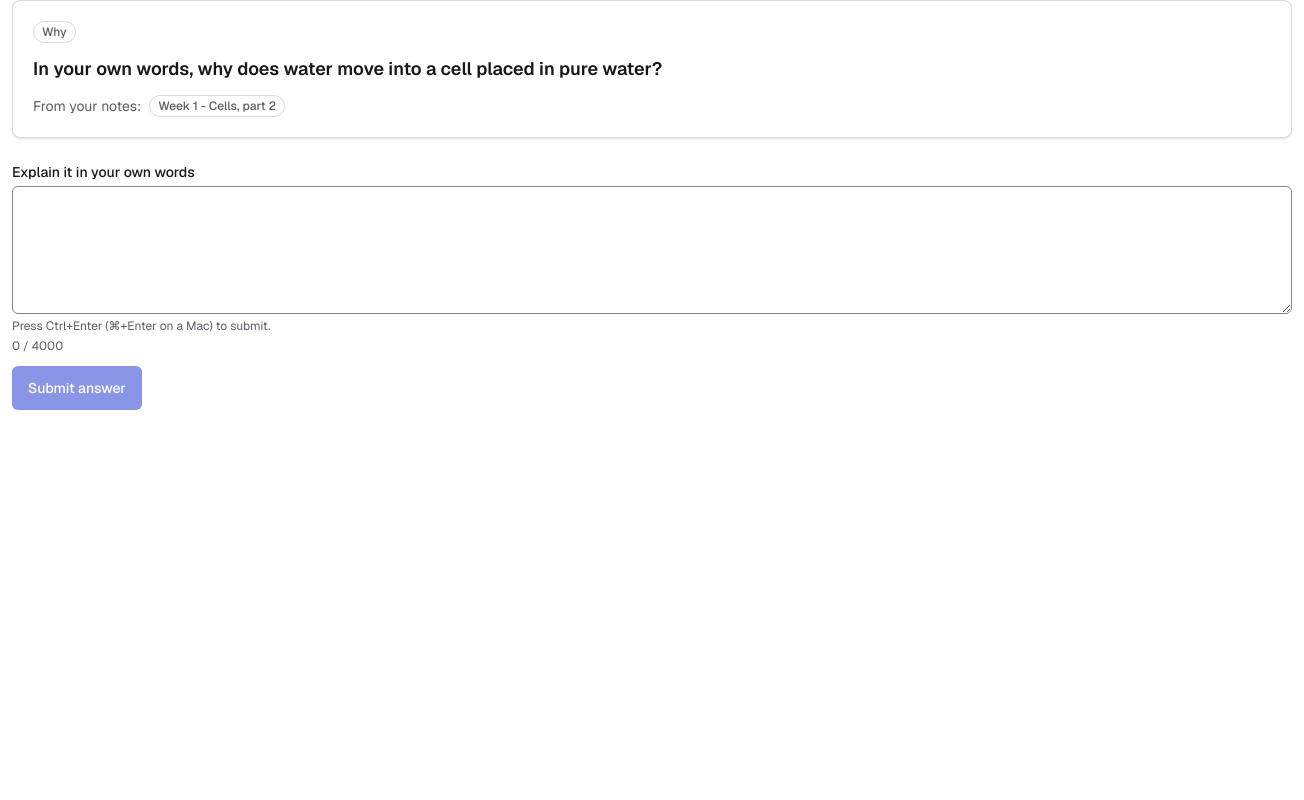
it: PracticeSession › keeps an XSS payload in the answer as literal text alongside the feedback
Type "<img src=x onerror=\"alert(1)\"><script>alert(2)</script>" into the text box labelled "Explain it in your own words" at (652, 250), box [12, 186, 1292, 314]
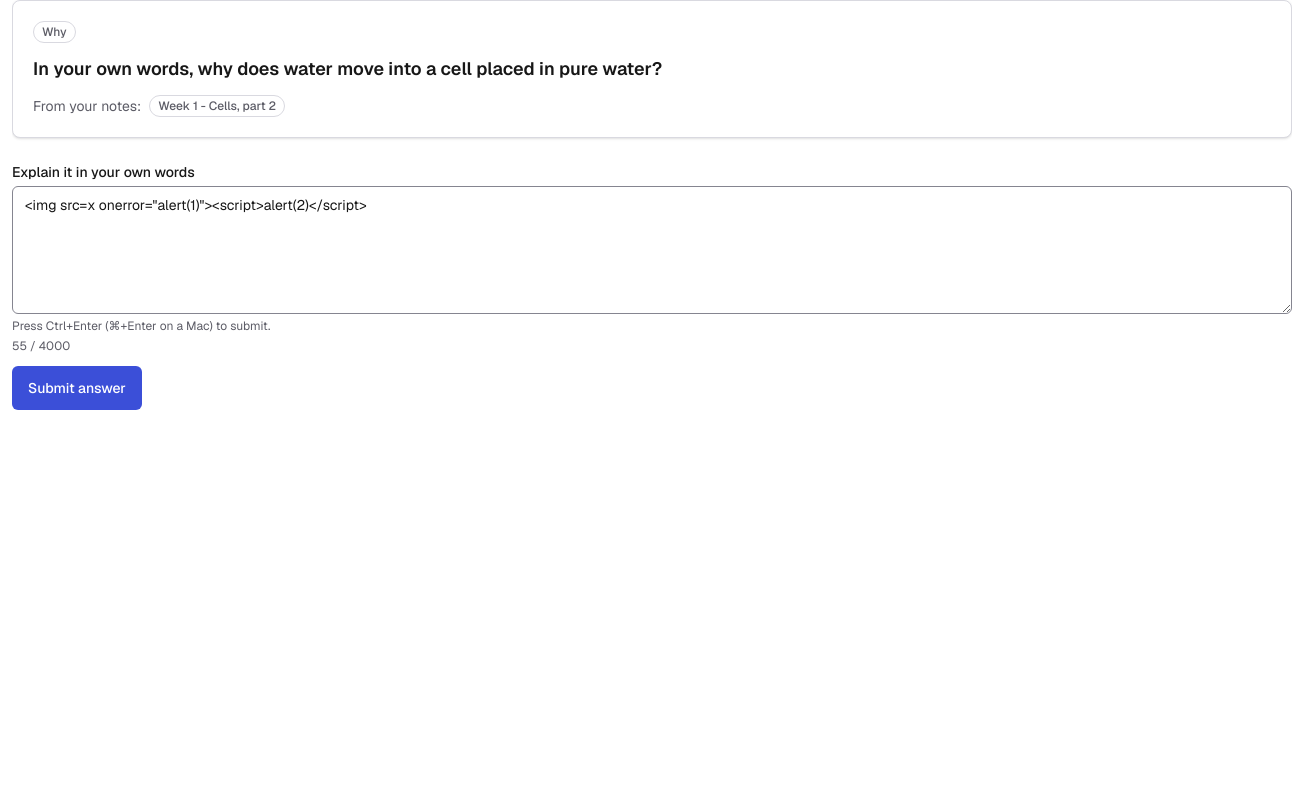
Click the button "Submit answer" at (77, 388), box [12, 366, 142, 410]
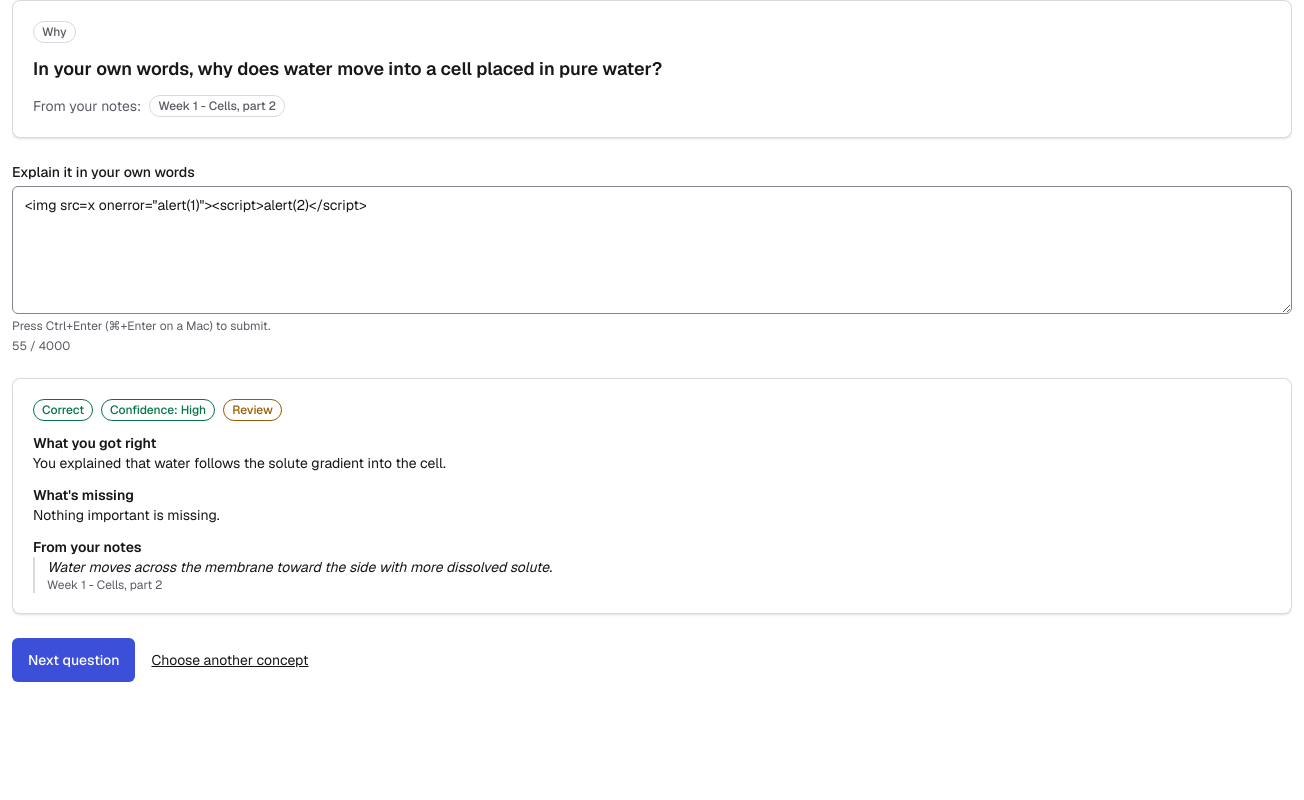
Now the element named "Feedback" is shown, box [12, 378, 1292, 614]
